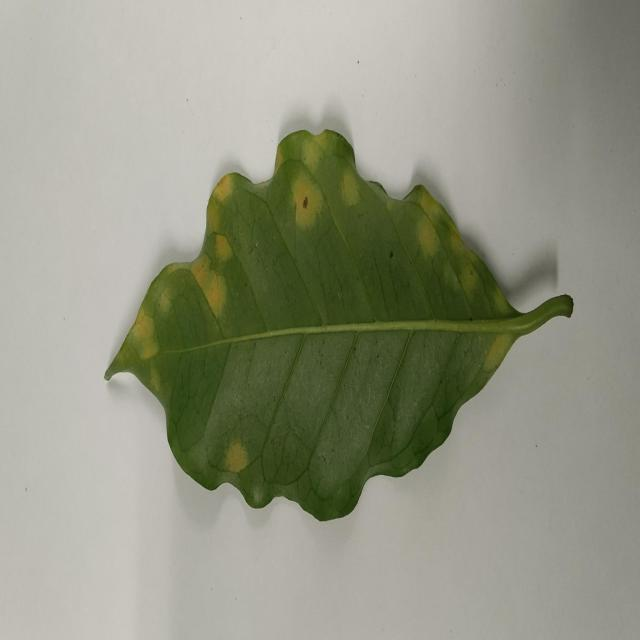Enfermedad-Roya: (104, 129, 575, 526)
